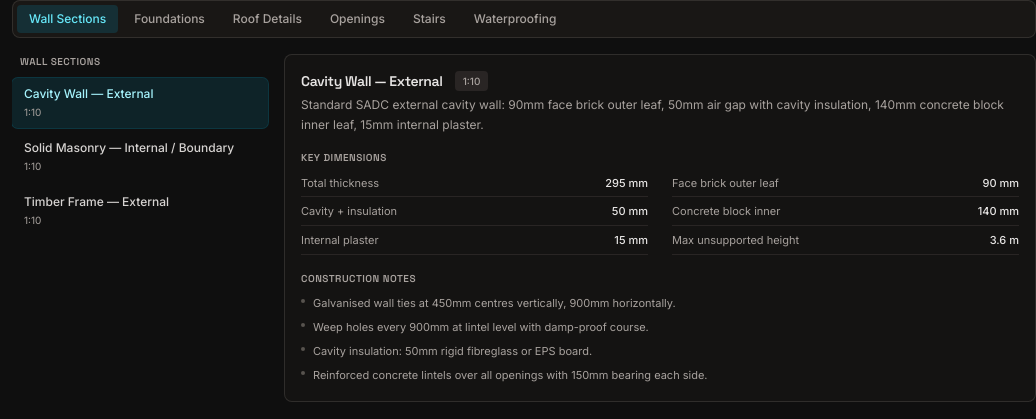
Scenario: DetailsBrowser › clicking a different detail updates preview
The width and height of the screenshot is (1036, 419).
Expected: the text "Standard SADC external cavity wall: 90mm face brick outer leaf, 50mm air gap with cavity insulation, 140mm concrete bloc" is shown, [301,97,1004,132]
Click the text "Solid Masonry — Internal / Boundary" at (140, 148), box [24,140,256,156]
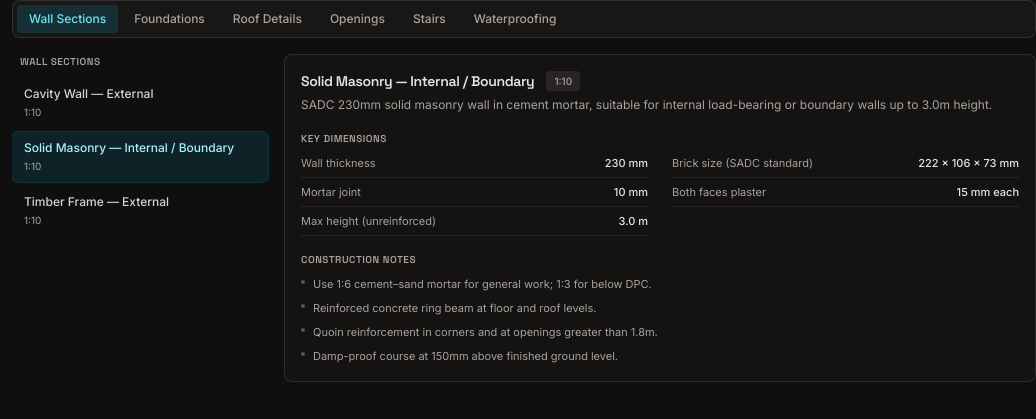
Now the text "SADC 230mm solid masonry wall in cement mortar, suitable for internal load-bearing or boundary walls up to 3.0m height." is shown, box [301,97,992,112]
Now the text "Standard SADC external cavity wall: 90mm face brick outer leaf, 50mm air gap with cavity insulation, 140mm concrete bloc" is gone
